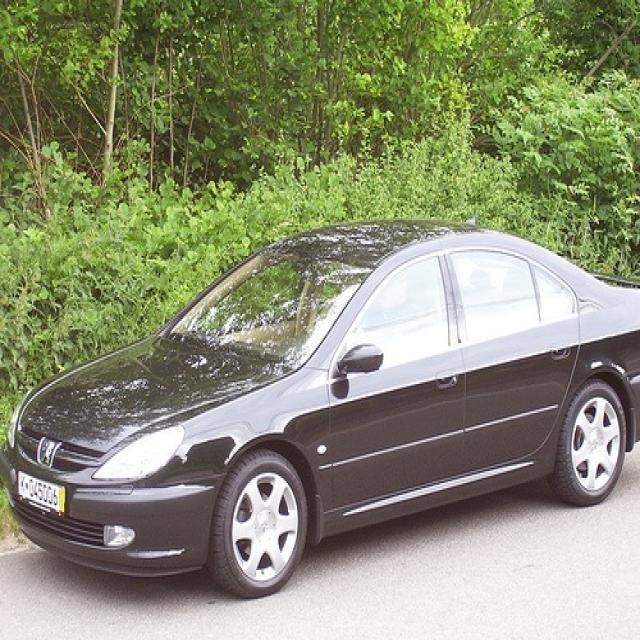car: (5, 213, 639, 599)
